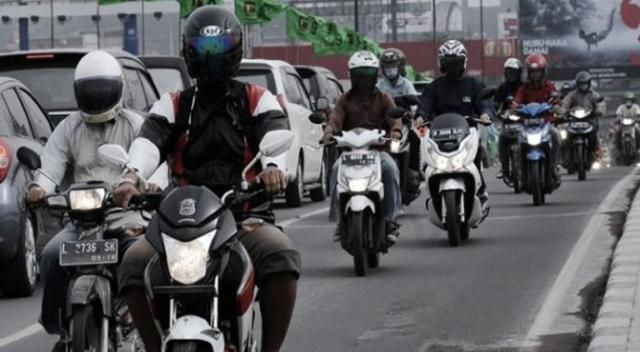helm: (181, 8, 246, 95), (74, 51, 127, 128), (345, 51, 383, 101), (438, 41, 469, 82), (382, 49, 406, 81), (525, 54, 549, 85), (504, 60, 523, 86), (578, 74, 593, 95), (624, 94, 637, 109)
motor: (117, 129, 297, 352), (13, 144, 156, 352), (323, 129, 403, 279), (413, 113, 491, 249), (511, 103, 567, 208), (564, 106, 602, 183), (613, 112, 640, 168)
